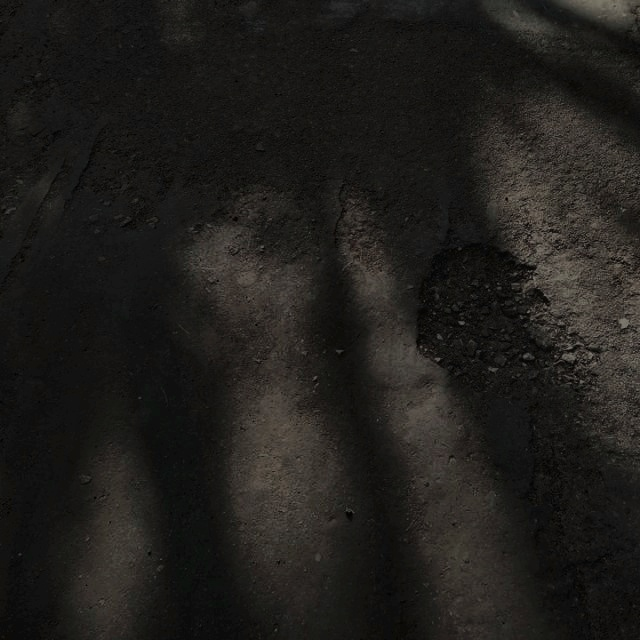Pothole: (407, 236, 569, 386)
